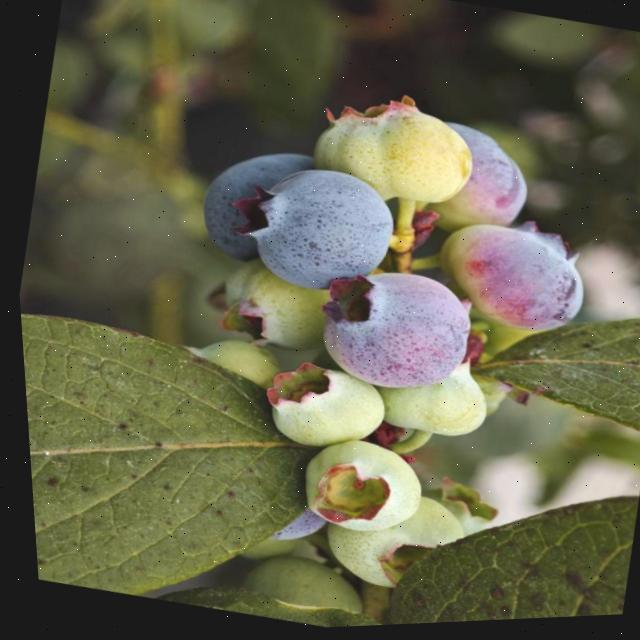RipeBlueBerry: (239, 159, 398, 306)
Semi-RipeBlueBerry: (309, 259, 475, 405), (424, 218, 589, 346)
UnripeBlueBerry: (301, 85, 480, 215), (284, 434, 425, 547)
